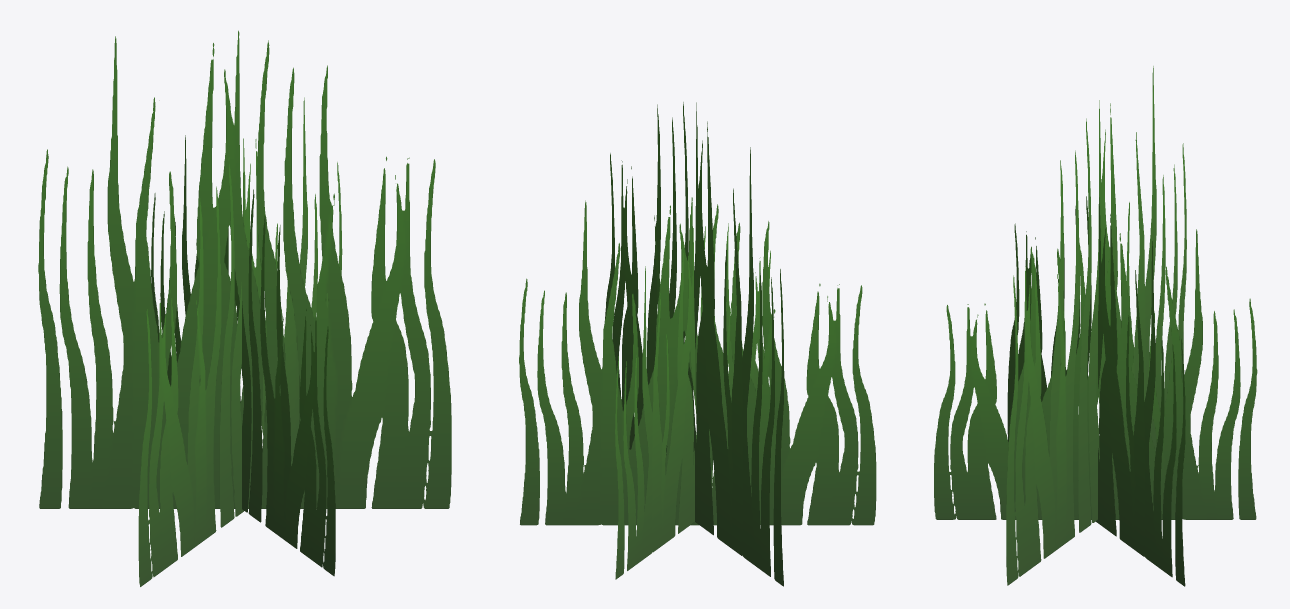
File: Grass.fbx
3 renders of one model, left to right at view 1: azimuth 30°, elevation 25°; view 2: azimuth 150°, elevation 25°; view 3: azimuth 270°, elevation 25°, orthographic. The views are drawn at different scales.
Parts seen in each view (by area): view 1: Grass; view 2: Grass; view 3: Grass.
Boxes of the visible parts, left/top/right/bottom form: Grass: left=38, top=30, right=451, bottom=586; Grass: left=519, top=102, right=876, bottom=586; Grass: left=934, top=66, right=1257, bottom=586.
Bounding box in the file's own units: 69.28 × 96.76 × 71.5.
1 material, 1 textured.
